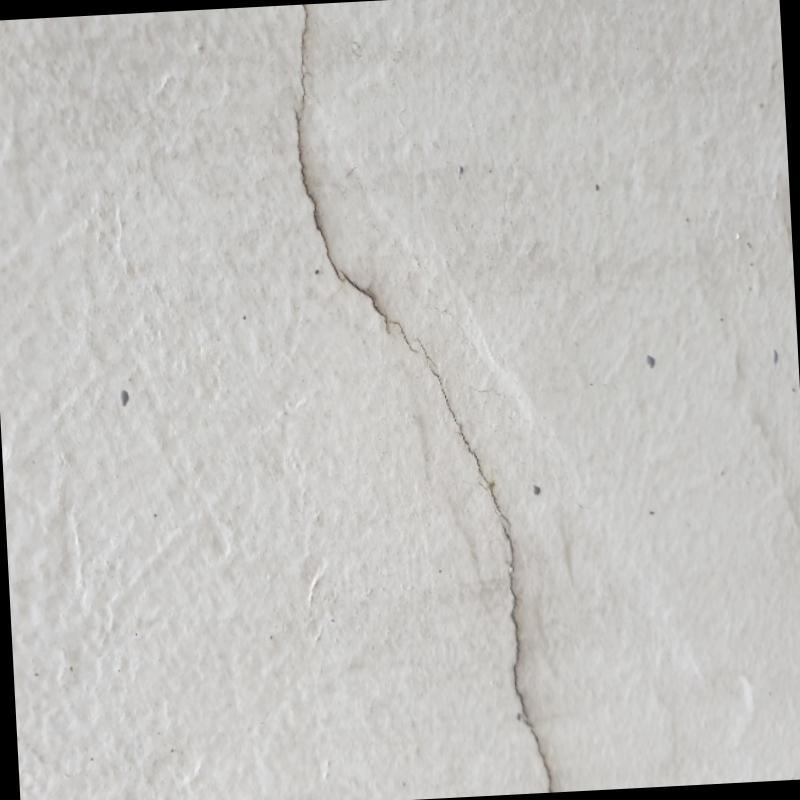pothole: (294, 6, 553, 790)
